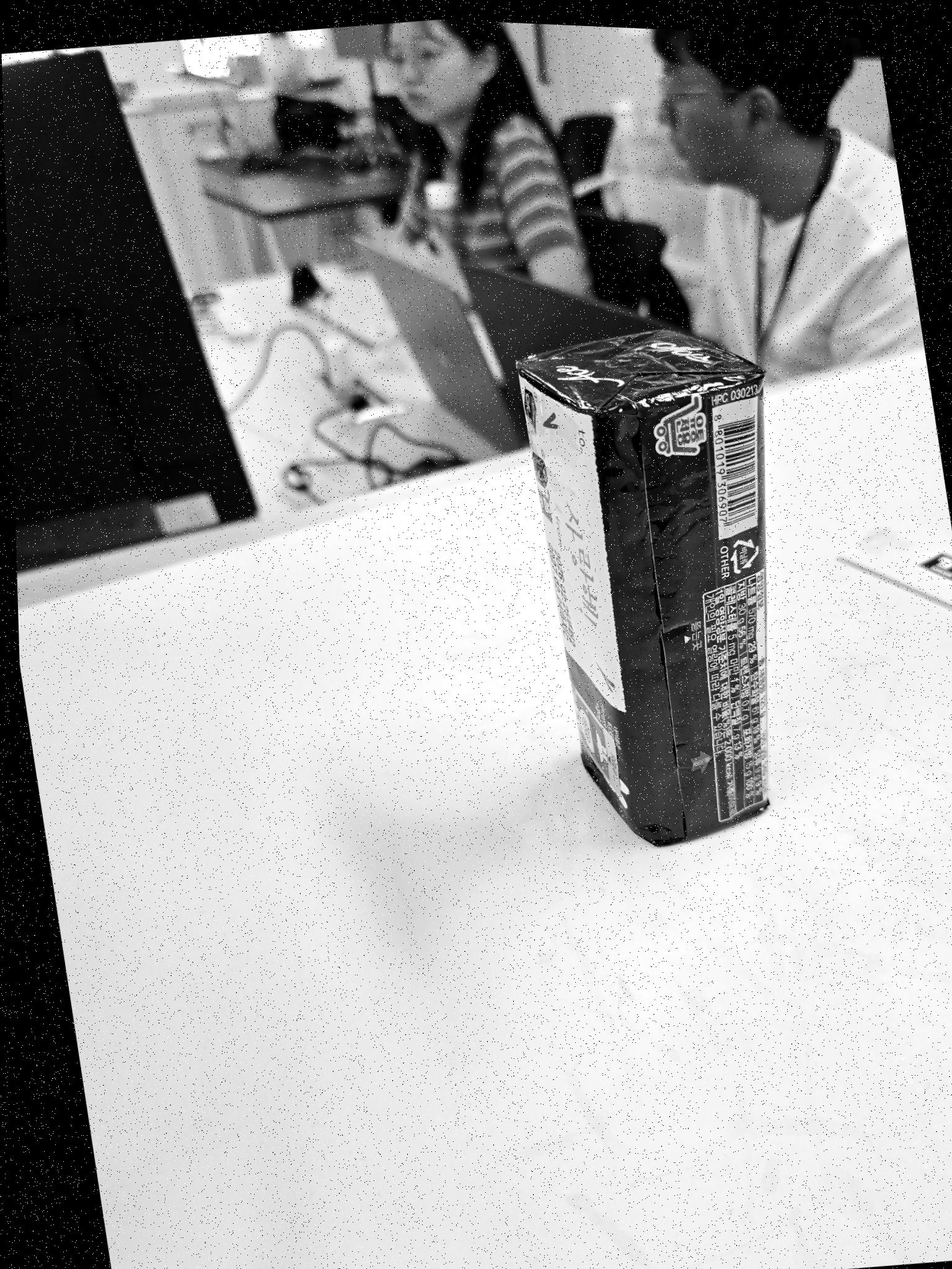cracker_ace: (517, 331, 768, 844)
